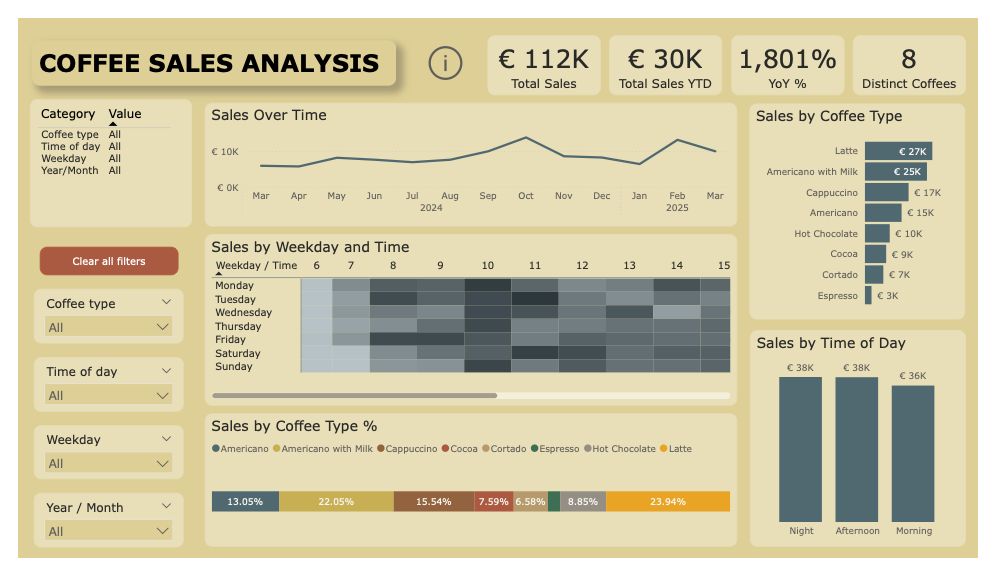

This screenshot's page, from the dashboard's own definition file:
{"tool":"powerbi","page":{"name":"Page 1","canvas":[1280,720],"ordinal":0},"visuals":[{"type":"group","id":"g1","title":"Main Dashboard","box":[16,22.8,1248.3,682.9],"z":0},{"type":"slicer","fields":{"Values":["SalesData.coffee_name"]},"box":[21.1,360.9,200,73.3],"z":0,"group":"g1"},{"type":"slicer","fields":{"Values":["SalesData.time_of_day"]},"box":[21.1,451.8,200,72.9],"z":1000,"group":"g1"},{"type":"slicer","fields":{"Values":["dimDate.weekday_name"]},"box":[21.1,542.3,200,72.9],"z":2000,"group":"g1"},{"type":"actionButton","box":[28.6,304.9,185,38.3],"z":3000,"group":"g1"},{"type":"tableEx","fields":{"Values":["Selected Filters.Category","Selected Filters.Selected Value (All-aware)"]},"box":[16,108,216.2,171.2],"z":4000,"group":"g1"},{"type":"card","fields":{"Values":["_Measures.Total Sales"]},"box":[626.1,22.8,151,80],"z":5000,"group":"g1"},{"type":"card","fields":{"Values":["_Measures.Total Sales YTD"]},"box":[788.3,22.8,151,80],"z":6000,"group":"g1"},{"type":"card","fields":{"Values":["_Measures.YoY %"]},"box":[950.6,22.8,151,80],"z":7000,"group":"g1"},{"type":"card","fields":{"Values":["_Measures.Distinct Coffees"]},"box":[1112.8,22.8,151,80],"z":8000,"group":"g1"},{"type":"lineChart","title":"Sales Over Time","fields":{"Y":["_Measures.Total Sales"],"Category":["dimDate.year","dimDate.month_abbr"]},"box":[248.6,113.2,710,165],"z":9000,"group":"g1"},{"type":"slicer","fields":{"Values":["dimDate.year","dimDate.month_abbr"]},"box":[21.1,632.8,200,72.9],"z":10000,"group":"g1"},{"type":"barChart","title":"Sales by Coffee Type","fields":{"Category":["SalesData.coffee_name"],"Y":["_Measures.Total Sales"]},"box":[975,113.4,288.3,288.3],"z":11000,"group":"g1"},{"type":"hundredPercentStackedBarChart","title":"Sales by Coffee Type %","fields":{"Y":["_Measures.Sales by Coffee %"],"Series":["SalesData.coffee_name"]},"box":[248.6,526.5,710,178.3],"z":12000,"group":"g1"},{"type":"pivotTable","title":"Sales by Weekday and Time","fields":{"Rows":["dimDate.weekday_name"],"Columns":["SalesData.hour_of_day"],"Values":["_Measures.Total Sales"]},"box":[248.6,288.2,710,228.3],"z":13000,"group":"g1"},{"type":"columnChart","title":"Sales by Time of Day","fields":{"Category":["SalesData.time_of_day"],"Y":["_Measures.Total Sales"]},"box":[975.7,415.7,288.6,288.6],"z":14000,"group":"g1"},{"type":"textbox","box":[19.4,29.5,485,60],"z":15000,"group":"g1"},{"type":"actionButton","title":"Info Button","box":[541.1,29.5,58.3,60],"z":15500,"group":"g1"}]}

Visuals, with their boxes in screenshot pixels (x1, y1, x2, y2), scaled from the page's 1280x720 canvas onto the 996x576 screenshot:
"Main Dashboard" group: left=12, top=18, right=984, bottom=565
slicer - SalesData.coffee_name: left=16, top=289, right=172, bottom=347
slicer - SalesData.time_of_day: left=16, top=361, right=172, bottom=420
slicer - dimDate.weekday_name: left=16, top=434, right=172, bottom=492
actionButton: left=22, top=244, right=166, bottom=275
tableEx - Selected Filters.Category x Selected Filters.Selected Value (All-aware): left=12, top=86, right=181, bottom=223
card - _Measures.Total Sales: left=487, top=18, right=605, bottom=82
card - _Measures.Total Sales YTD: left=613, top=18, right=731, bottom=82
card - _Measures.YoY %: left=740, top=18, right=857, bottom=82
card - _Measures.Distinct Coffees: left=866, top=18, right=983, bottom=82
"Sales Over Time" lineChart: left=193, top=91, right=746, bottom=223
slicer - dimDate.year x dimDate.month_abbr: left=16, top=506, right=172, bottom=565
"Sales by Coffee Type" barChart: left=759, top=91, right=983, bottom=321
"Sales by Coffee Type %" hundredPercentStackedBarChart: left=193, top=421, right=746, bottom=564
"Sales by Weekday and Time" pivotTable: left=193, top=231, right=746, bottom=413
"Sales by Time of Day" columnChart: left=759, top=333, right=984, bottom=563
textbox: left=15, top=24, right=392, bottom=72
"Info Button" actionButton: left=421, top=24, right=466, bottom=72
